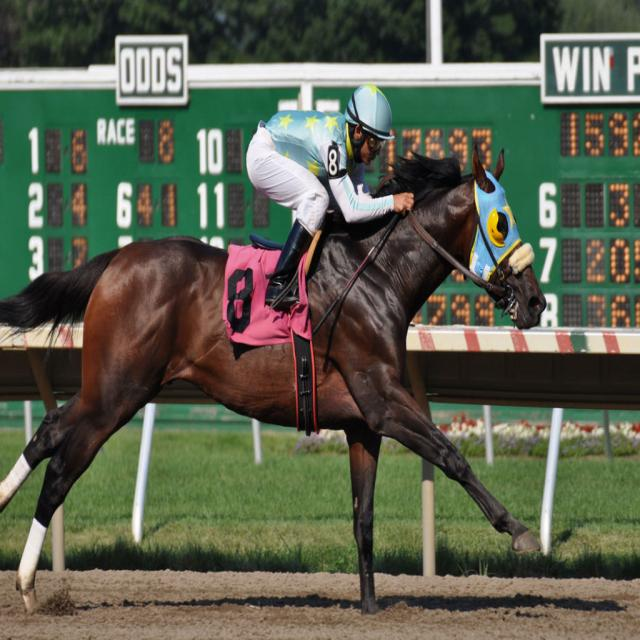Horse: (0, 143, 547, 620)
